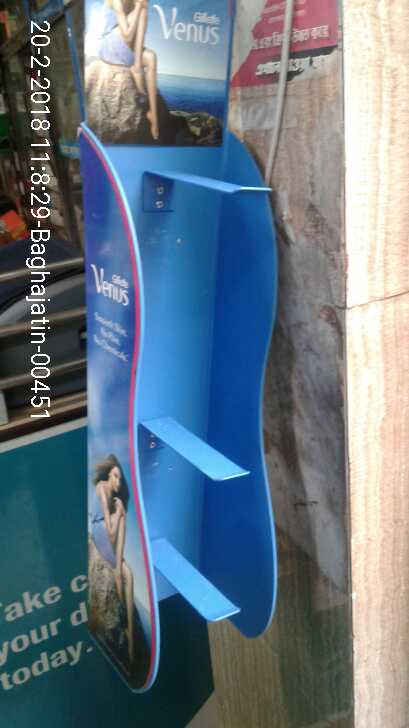reject: (273, 147, 373, 323)
